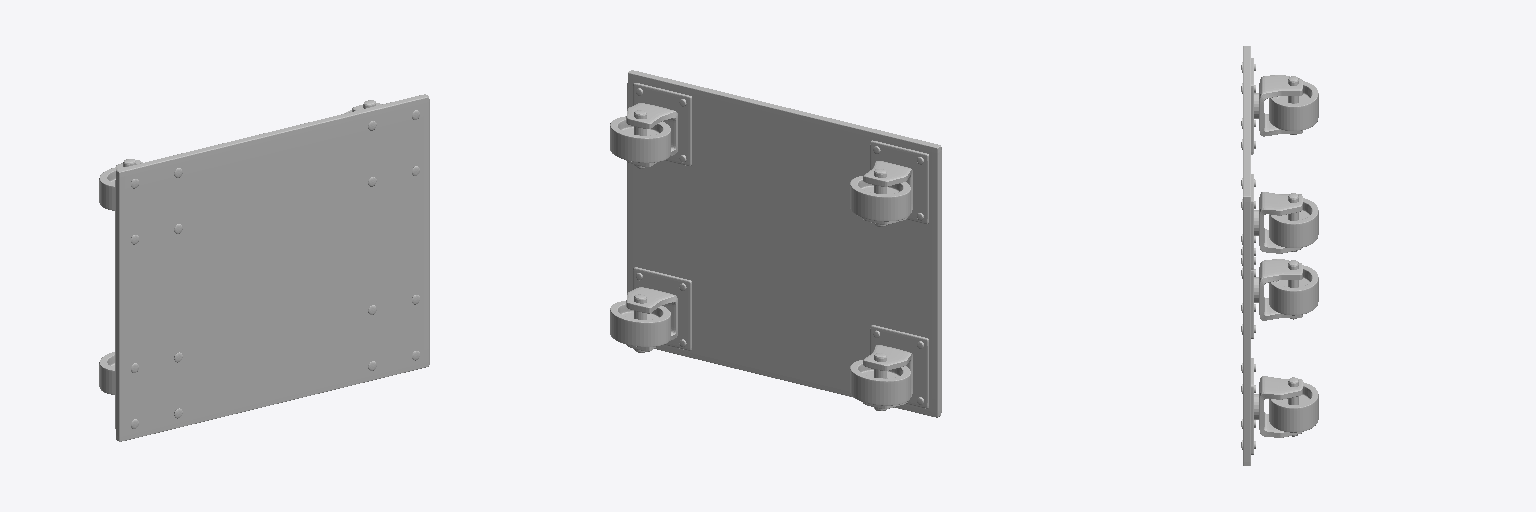
File: weldingcart.obj
The picture shows the model from 3 angles: view 1: azimuth 30°, elevation 25°; view 2: azimuth 150°, elevation 25°; view 3: azimuth 270°, elevation 25°; orthographic projection.
Visible parts, largest first — view 1: 17386_Steel_dolly_v1; view 2: 17386_Steel_dolly_v1; view 3: 17386_Steel_dolly_v1.
Boxes of the visible parts, x1=… form: 17386_Steel_dolly_v1: x1=99, y1=94, x2=429, y2=441; 17386_Steel_dolly_v1: x1=610, y1=70, x2=941, y2=417; 17386_Steel_dolly_v1: x1=1241, y1=46, x2=1318, y2=465.
Bounding box in the file's own units: 0.6711 × 0.5579 × 0.1445.